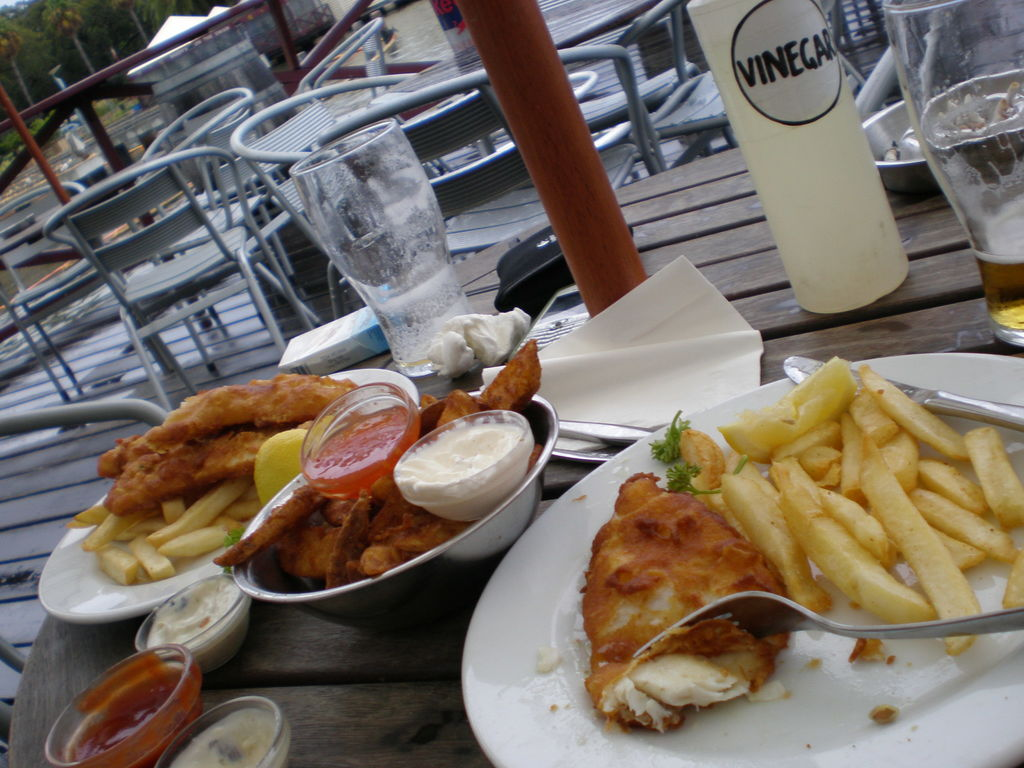French fries: (679, 355, 1023, 668), (71, 469, 261, 583)
